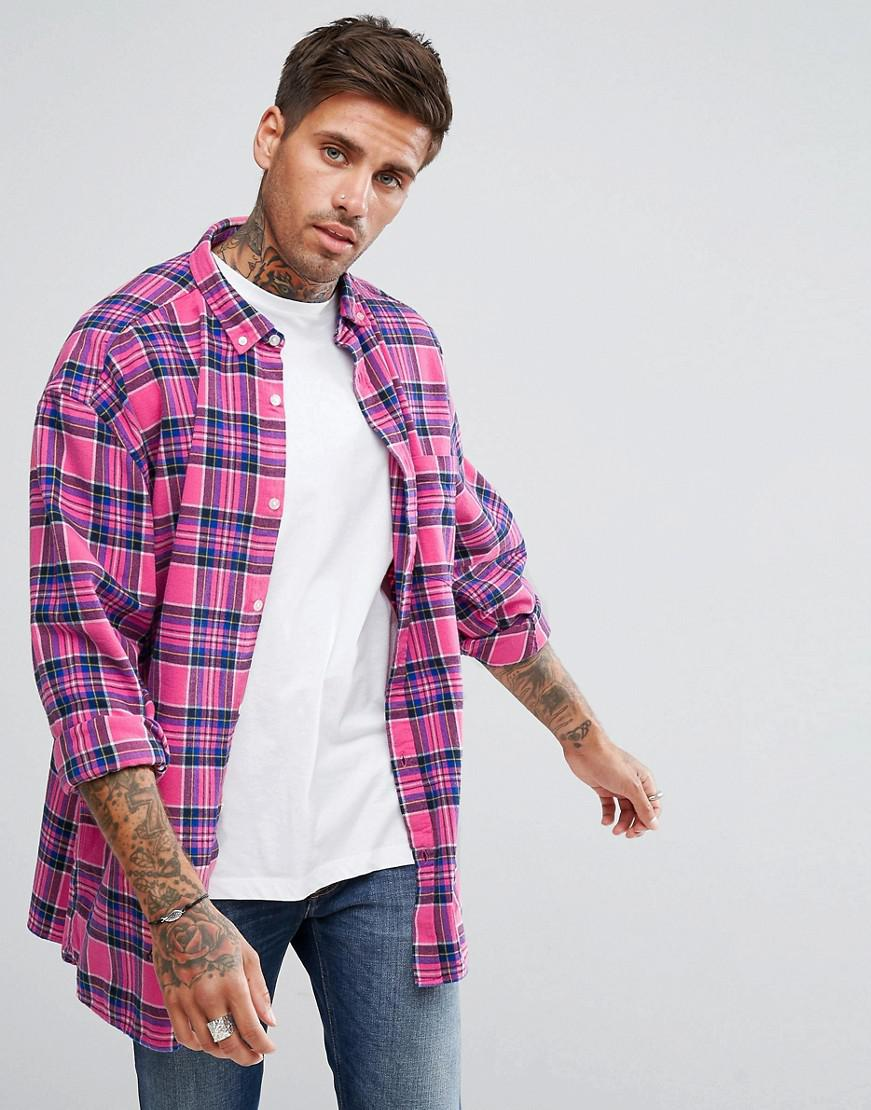teeshirt: (17, 215, 544, 1071)
